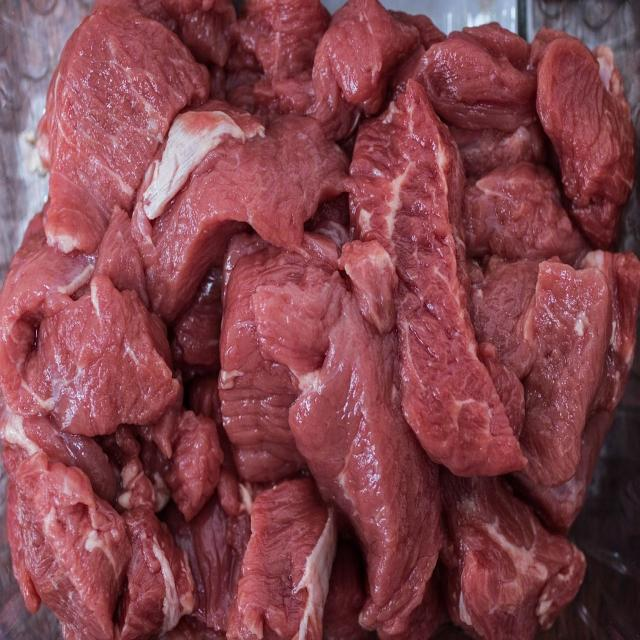beef: (333, 86, 551, 514), (198, 197, 409, 546), (104, 78, 390, 305), (0, 202, 205, 428), (34, 12, 219, 256), (0, 369, 147, 636), (209, 382, 345, 640), (418, 443, 584, 634), (513, 18, 640, 245), (302, 2, 423, 133)
